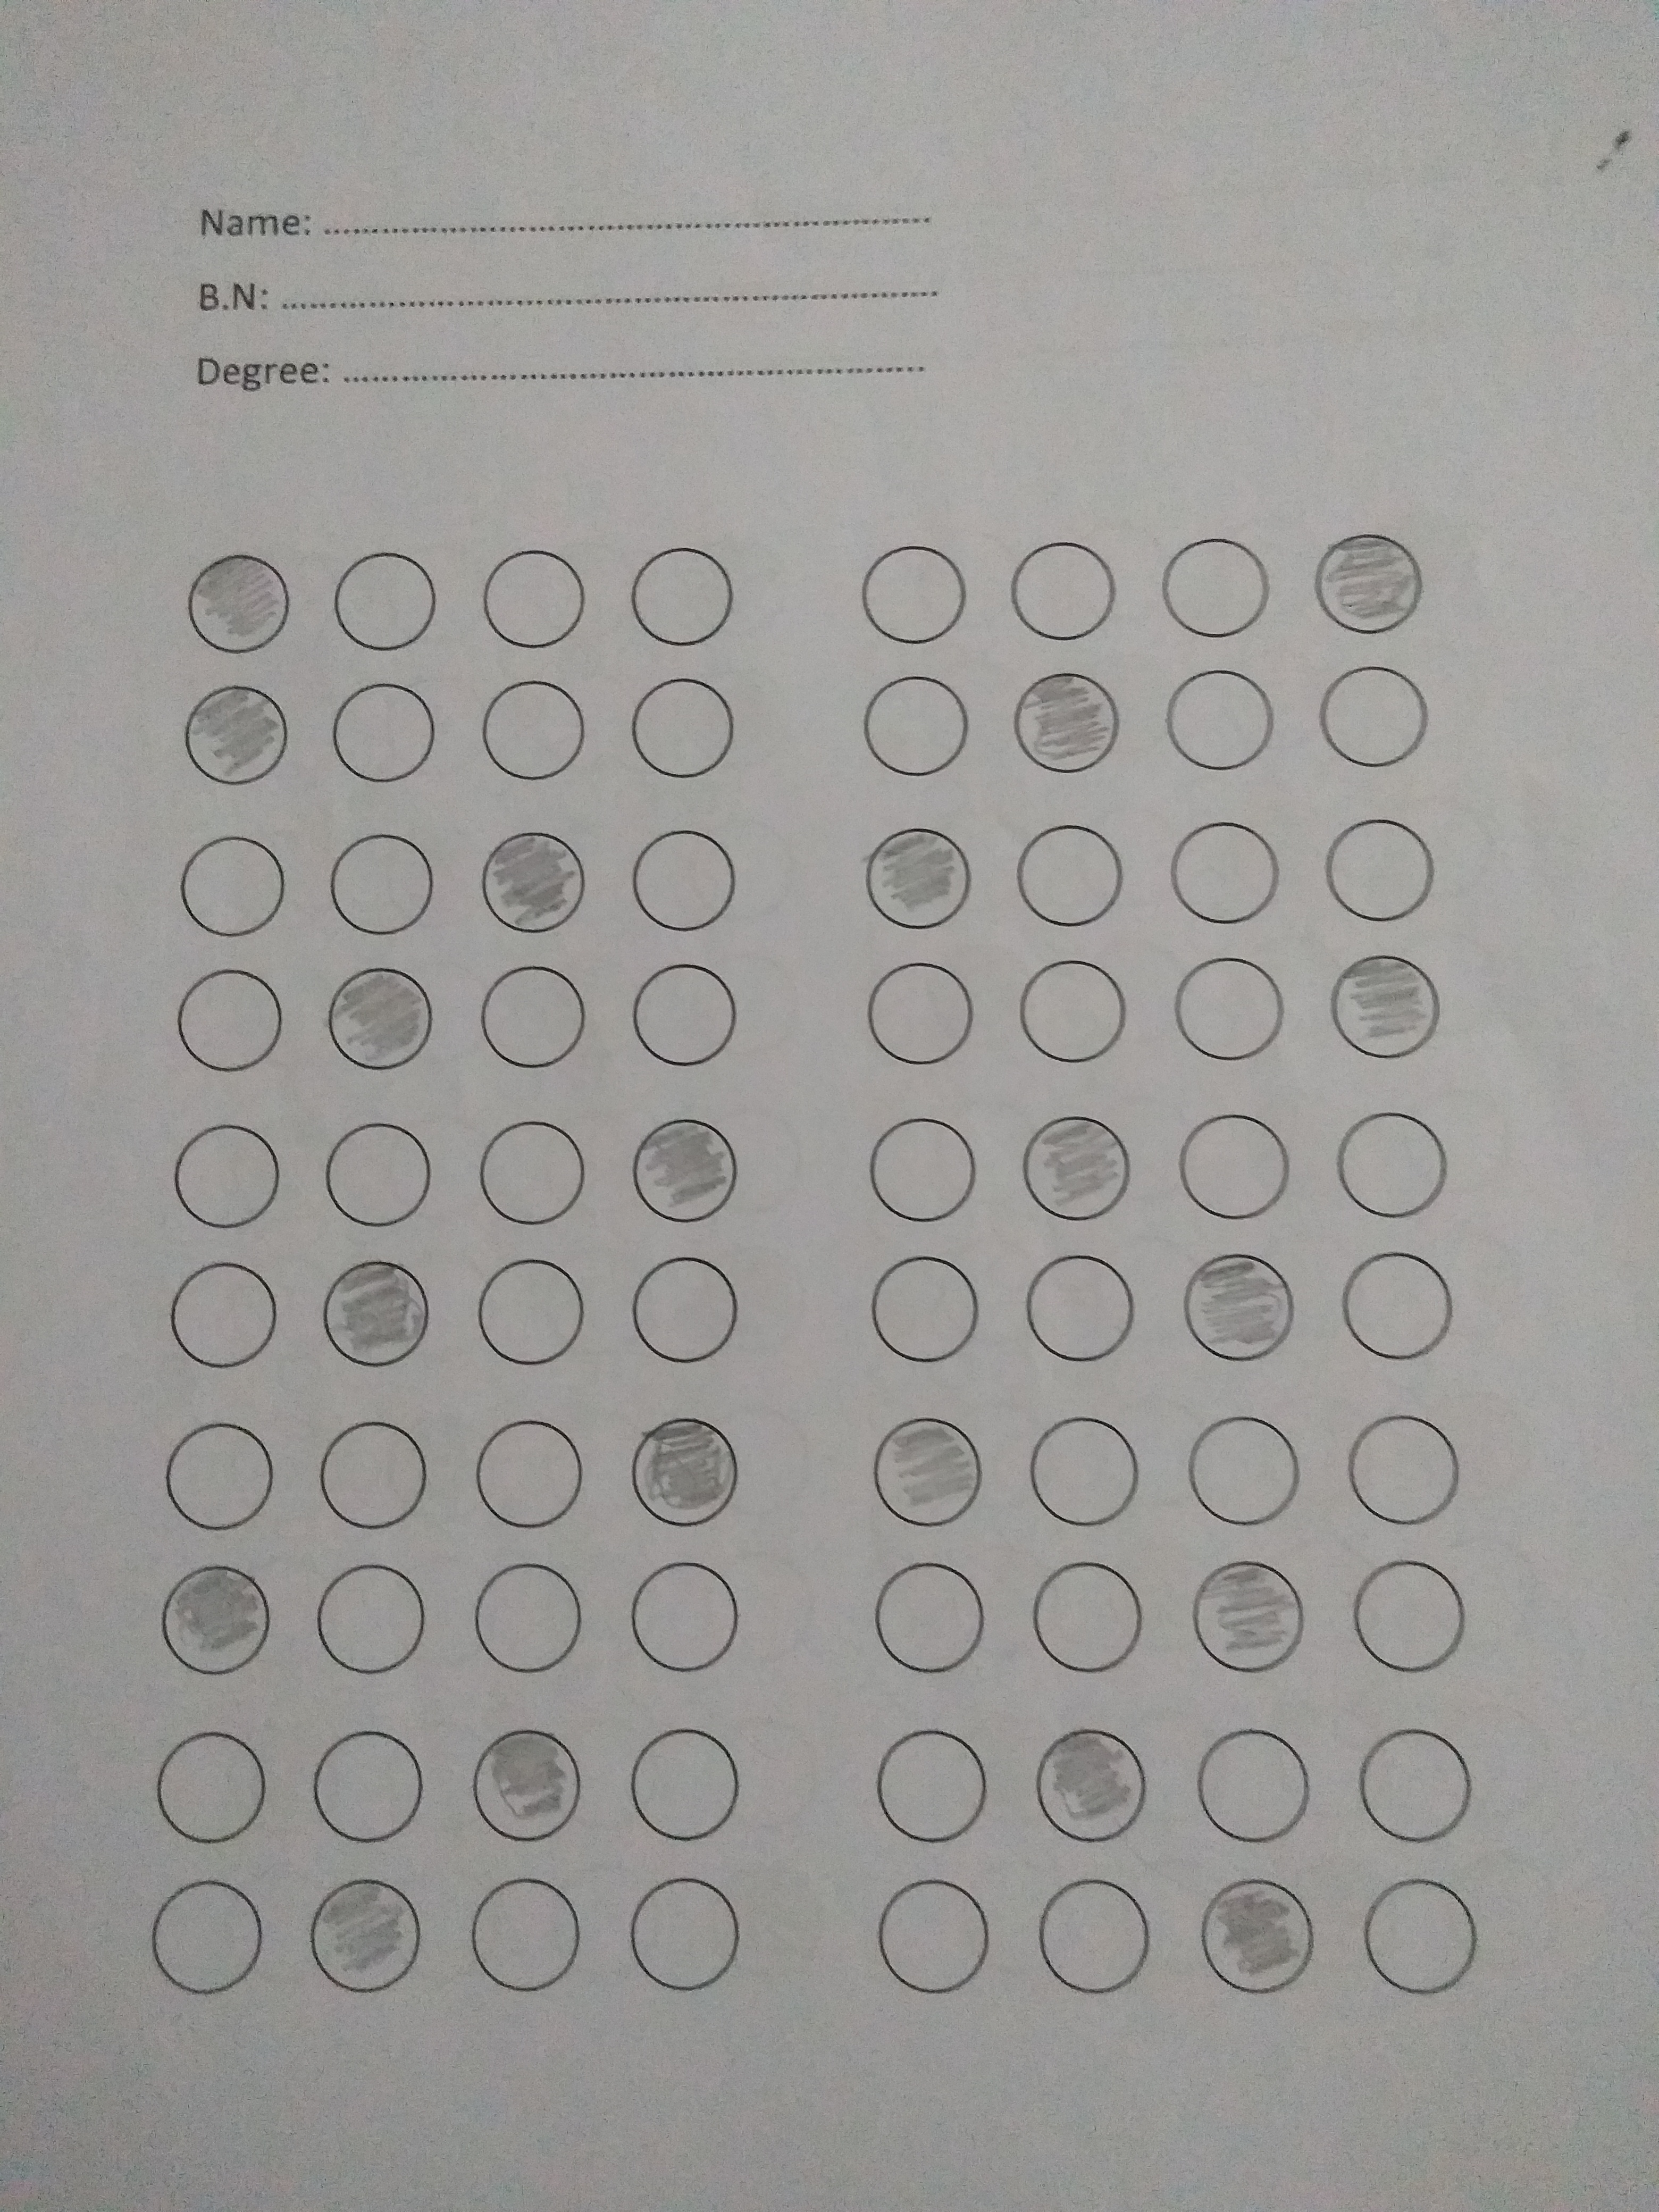not-c: (1185, 1413, 1298, 1529), (1344, 1409, 1457, 1526), (171, 1252, 284, 1369), (472, 1256, 586, 1372), (629, 1249, 742, 1366), (1019, 1252, 1133, 1369), (1335, 1249, 1448, 1366), (171, 1118, 284, 1235), (321, 1116, 434, 1233), (474, 1113, 587, 1230), (1014, 953, 1127, 1069), (864, 954, 978, 1071), (624, 956, 737, 1073), (474, 963, 587, 1080), (174, 967, 288, 1083), (1321, 815, 1434, 932), (1166, 819, 1279, 935), (622, 822, 735, 939), (1012, 822, 1126, 939), (322, 833, 436, 949), (1316, 662, 1429, 779), (1159, 667, 1272, 784), (856, 674, 969, 791), (619, 671, 732, 787), (324, 678, 437, 794), (620, 538, 734, 655), (150, 1879, 263, 1996), (467, 1878, 580, 1994), (626, 1871, 739, 1987), (307, 1730, 420, 1846), (152, 1728, 265, 1844), (1361, 1726, 1474, 1843), (1194, 1728, 1307, 1844), (1026, 1561, 1140, 1677), (315, 1564, 429, 1681), (162, 1416, 275, 1533), (329, 545, 443, 660), (1026, 1413, 1140, 1527), (1007, 540, 1121, 655), (472, 678, 586, 792), (472, 547, 586, 662), (878, 1879, 992, 1994), (1349, 1562, 1462, 1677), (317, 1418, 430, 1533), (1331, 1106, 1443, 1223), (868, 1249, 979, 1366), (864, 1113, 976, 1230), (1180, 1106, 1291, 1223), (1173, 956, 1284, 1073), (173, 831, 284, 948), (1162, 524, 1274, 641), (856, 547, 967, 664), (624, 1726, 735, 1843), (1042, 1883, 1154, 2000), (878, 1730, 990, 1846), (871, 1557, 983, 1674), (472, 1564, 584, 1681), (631, 1562, 742, 1679), (472, 1416, 584, 1533), (1364, 1879, 1476, 1994)
taken-c: (1197, 1872, 1317, 1994), (1037, 1723, 1148, 1848), (1190, 1557, 1307, 1676), (310, 1876, 425, 1996), (1183, 1249, 1298, 1367), (871, 1414, 985, 1533), (1330, 949, 1445, 1064), (627, 1411, 737, 1531), (324, 1254, 434, 1369), (472, 1726, 580, 1843), (157, 1568, 274, 1674), (1011, 669, 1121, 779), (866, 827, 976, 935), (1314, 528, 1424, 636), (633, 1115, 739, 1226), (1023, 1115, 1134, 1221), (185, 547, 293, 655), (328, 965, 436, 1073), (181, 686, 288, 787), (484, 833, 587, 930)
